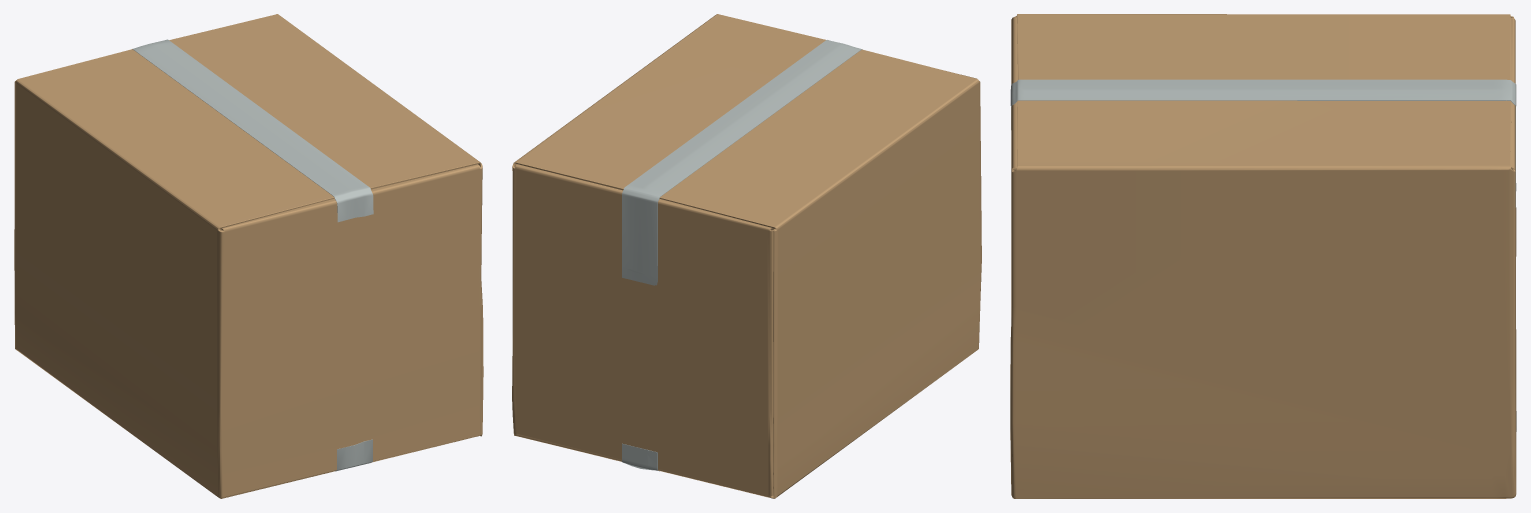
File: box_printer_a08.glb
3 views of the same model, side by side, from view 1: azimuth 30°, elevation 25°; view 2: azimuth 150°, elevation 25°; view 3: azimuth 270°, elevation 25° (orthographic). The views are drawn at different scales.
Bounding box in the file's own units: 0.2238 × 0.2252 × 0.3046.
